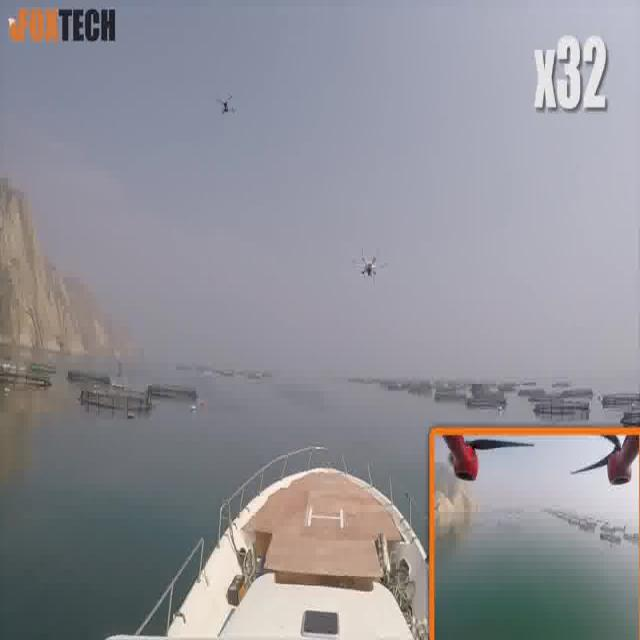drone: (347, 245, 392, 297)
